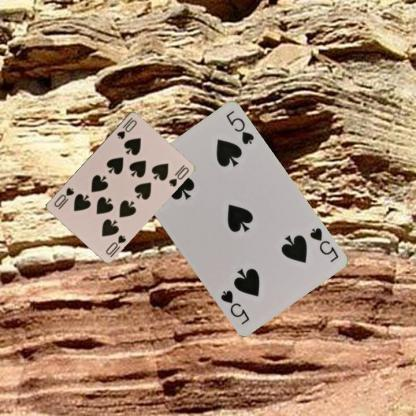10s: (114, 115, 138, 140), (103, 232, 127, 256)
5s: (306, 225, 340, 263)
